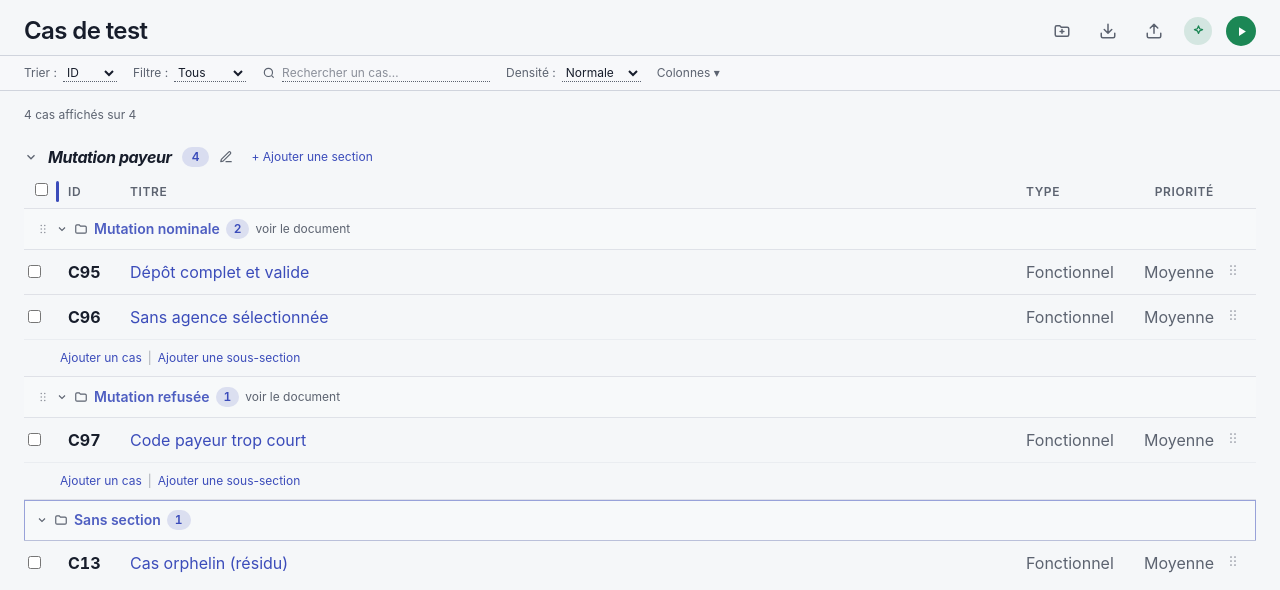
Test case: le regroupement par Section dans la liste › plier UNE Section ne plie QUE la sienne
Click the button "Mutation nominale 2". click: (153, 229)
box: 56,219 -> 249,239
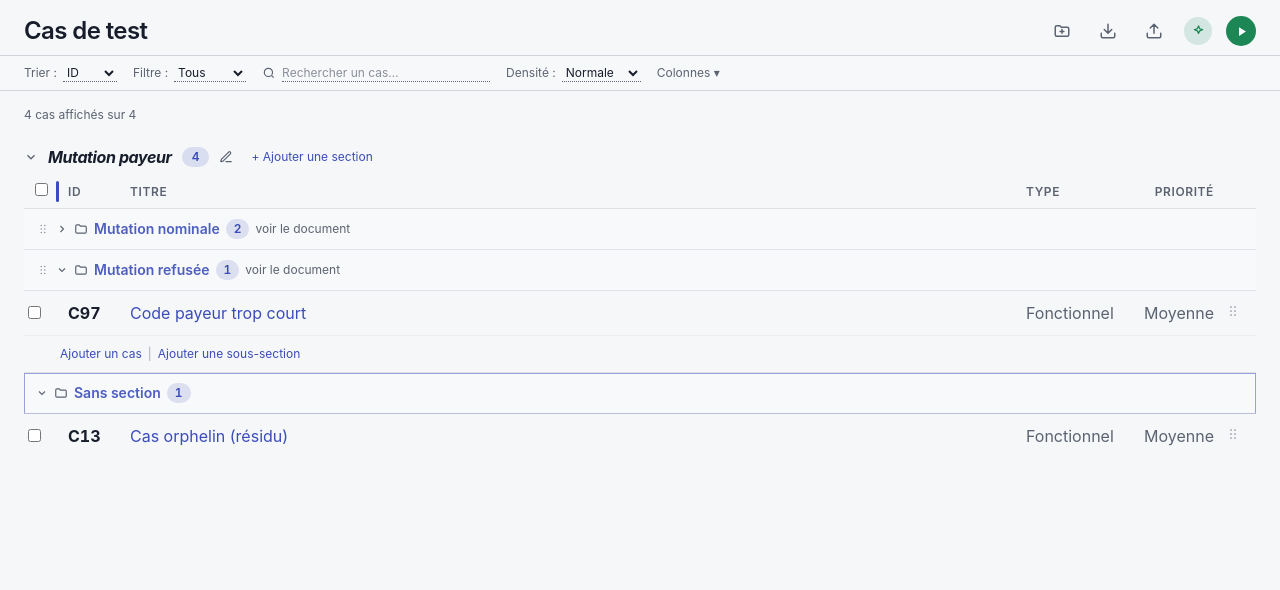
expect the text "Code payeur trop court" is shown: met, box 120,290 -> 1016,336
expect the text "Dépôt complet et valide" is gone: met
